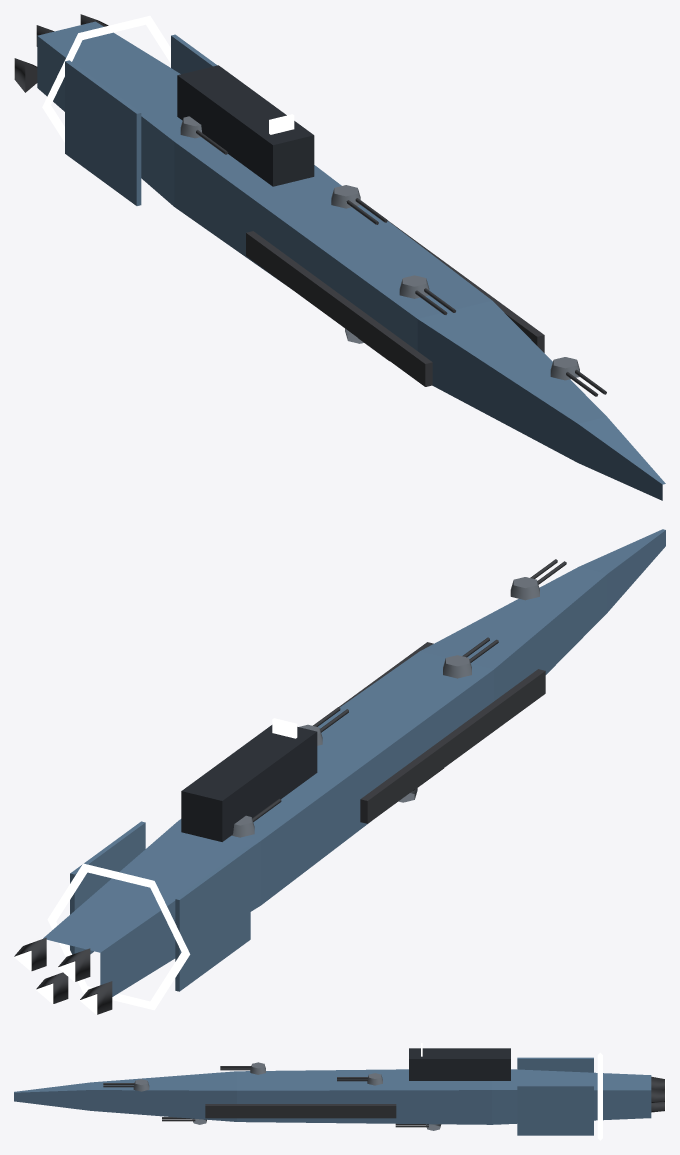
Rendered from space_ship_destroyer_mk6_lod2.glb.
3 views of the same model, one above another, from view 1: azimuth 30°, elevation 25°; view 2: azimuth 150°, elevation 25°; view 3: azimuth 270°, elevation 25° (orthographic). The views are drawn at different scales.
Visible parts, largest first — view 1: body, turret_2, turret_0, turret_4; view 2: body, turret_0, turret_2, engine_0, engine_1, engine_3, engine_2; view 3: body, turret_0, turret_2, turret_4, turret_1, turret_5, engine_3, engine_1.
Boxes of the visible parts, <box> form: body: <box>37,15,665,500</box>; turret_2: <box>399,275,455,314</box>; turret_0: <box>550,357,606,396</box>; turret_4: <box>331,185,387,224</box>; body: <box>43,529,665,1010</box>; turret_0: <box>510,559,566,600</box>; turret_2: <box>443,637,498,678</box>; engine_0: <box>80,981,112,1014</box>; engine_1: <box>58,948,90,981</box>; engine_3: <box>14,937,46,970</box>; engine_2: <box>36,972,68,1003</box>; body: <box>14,1043,651,1140</box>; turret_0: <box>103,1079,149,1091</box>; turret_2: <box>220,1062,265,1074</box>; turret_4: <box>337,1073,382,1085</box>; turret_1: <box>162,1117,206,1124</box>; turret_5: <box>395,1124,441,1130</box>; engine_3: <box>651,1088,665,1103</box>; engine_1: <box>651,1076,665,1090</box>.
Size of the model in its own units: 9.8 by 10.39 by 72.02.
